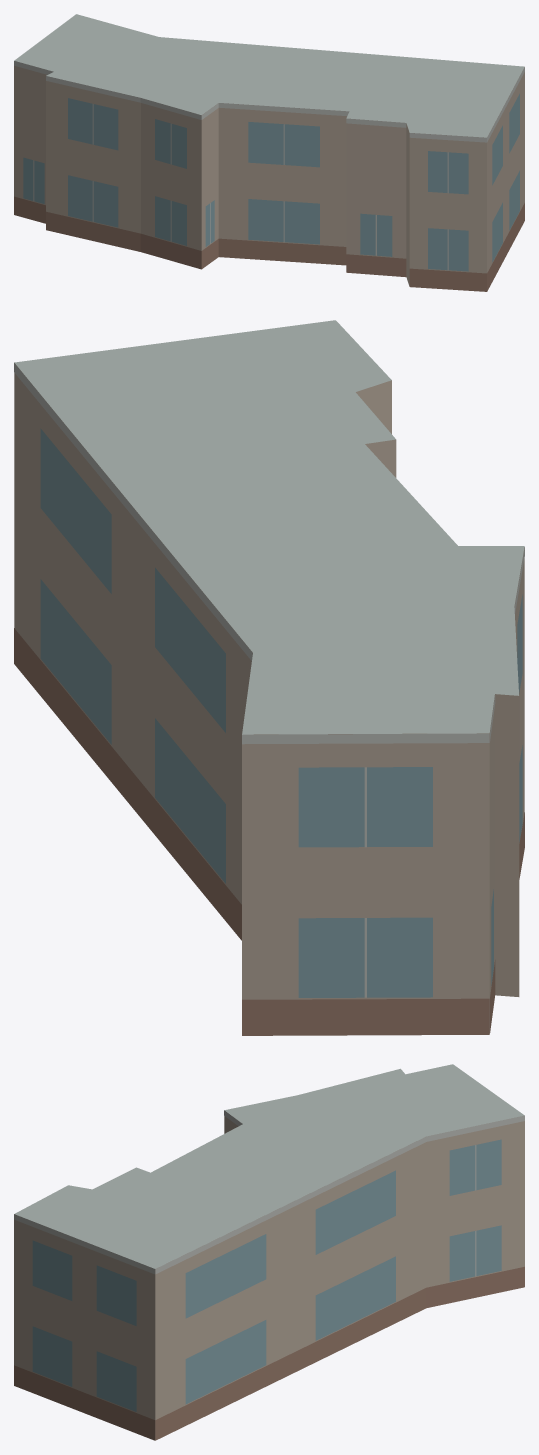
Rendered from survey-upis-32824510.glb.
3 views of the same model, one above another, from view 1: azimuth 30°, elevation 25°; view 2: azimuth 150°, elevation 25°; view 3: azimuth 270°, elevation 25° (orthographic). The views are drawn at different scales.
Parts seen in each view (by area): view 1: survey-upis-32824510.tmp; view 2: survey-upis-32824510.tmp; view 3: survey-upis-32824510.tmp.
Boxes of the visible parts, x1,y1,x2,y2 form: survey-upis-32824510.tmp: (14,14,524,291); survey-upis-32824510.tmp: (14,320,524,1035); survey-upis-32824510.tmp: (14,1064,524,1440).
Size of the model in its own units: 19.45 by 7.6 by 20.49.
